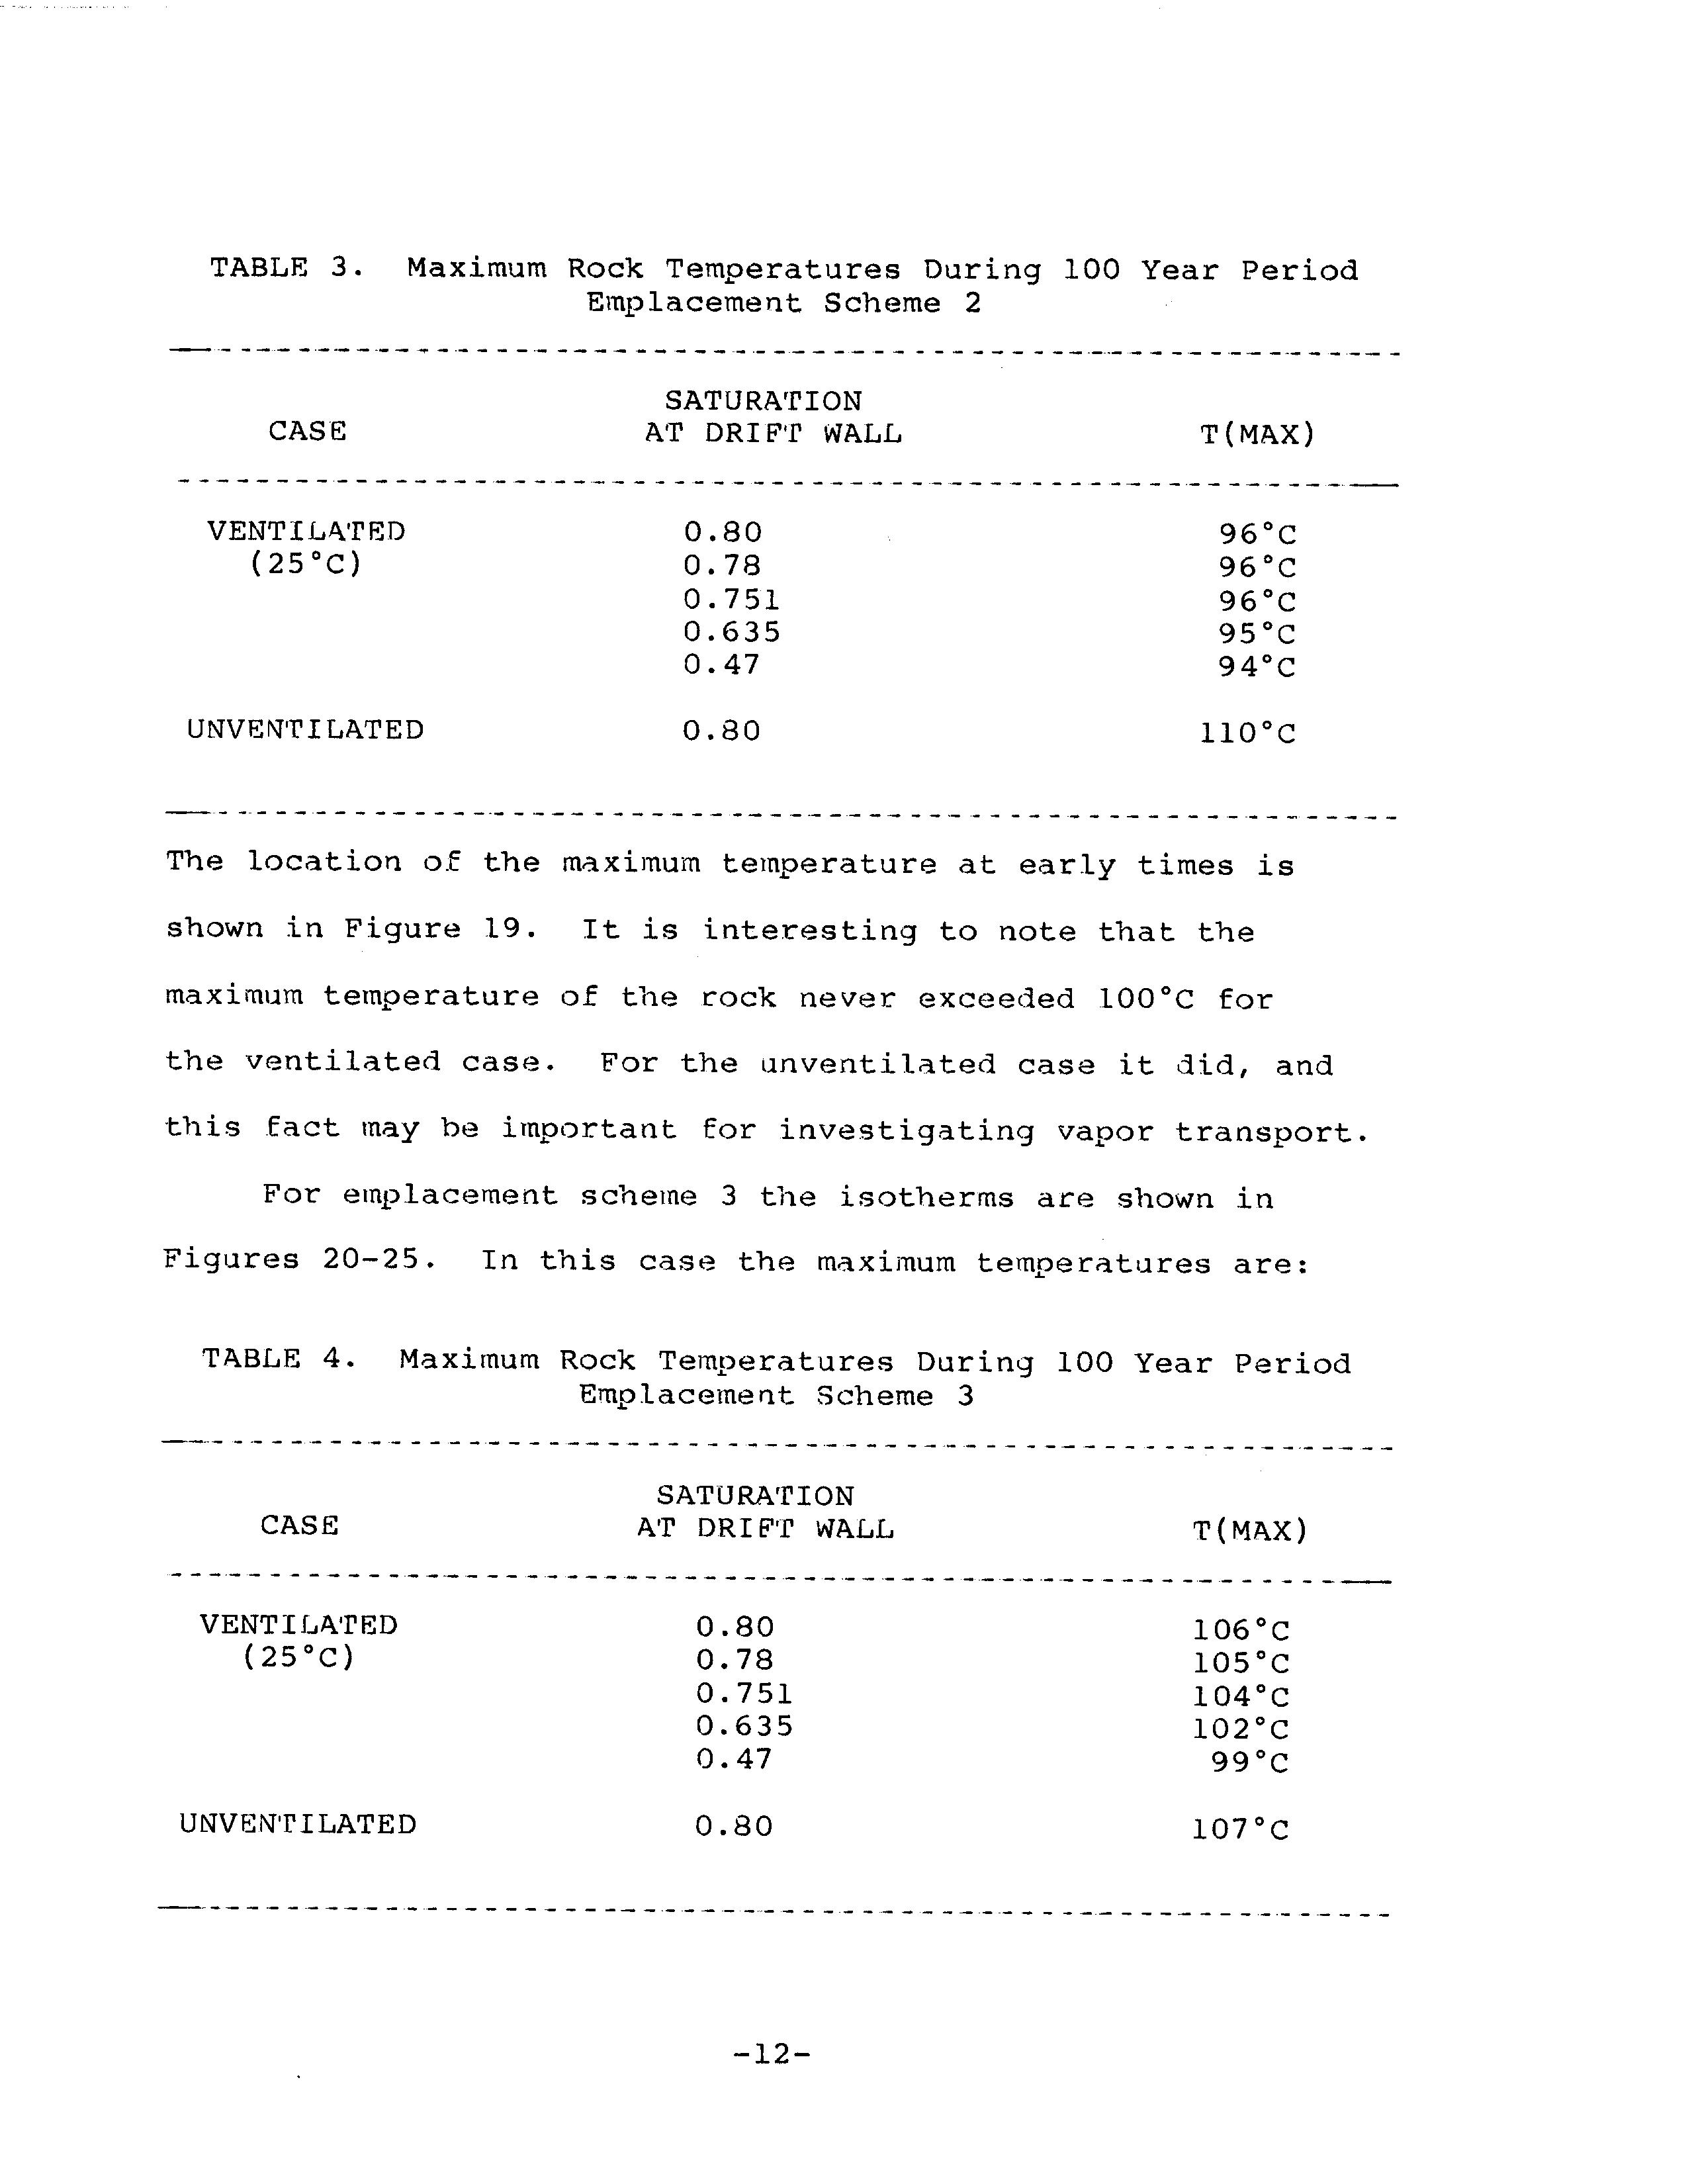borderless: (158, 1335, 1396, 1916), (168, 250, 1407, 819)
